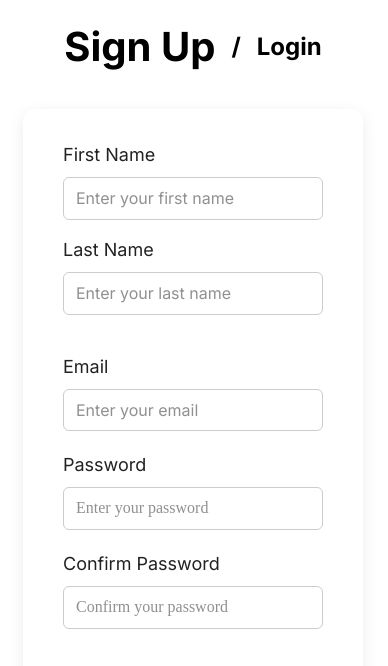
Test: Login Component › shows validation error when password is empty on login
Click the button "Login" at [289, 47], box left=257, top=29, right=322, bottom=65
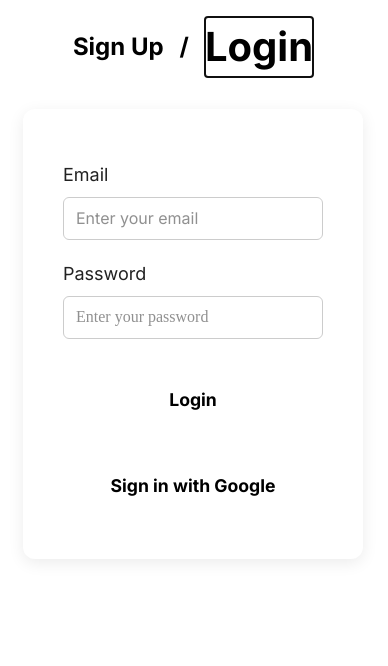
Type "test@test.com" into the field with placeholder "Enter your email" at [193, 218], box left=63, top=197, right=323, bottom=240
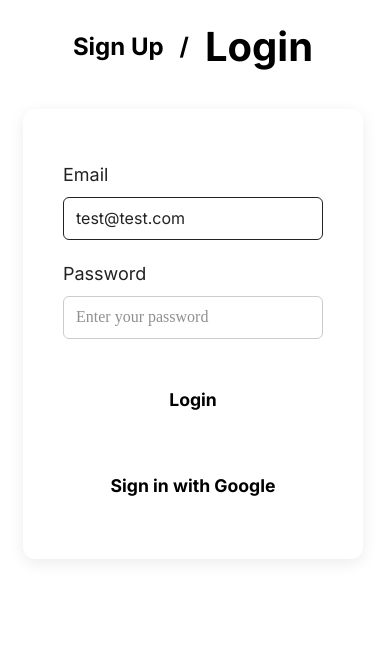
Click the button "Login" below "Password" at [193, 400], box left=63, top=375, right=323, bottom=425
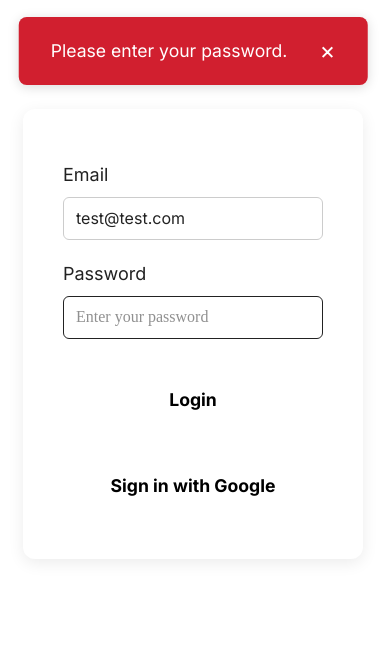
Expected: the text "Please enter your password." is shown, left=51, top=38, right=287, bottom=64
